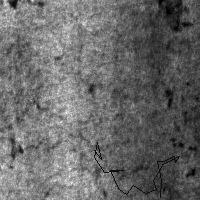crazing: (76, 113, 147, 197), (94, 142, 179, 197), (1, 97, 65, 158)
